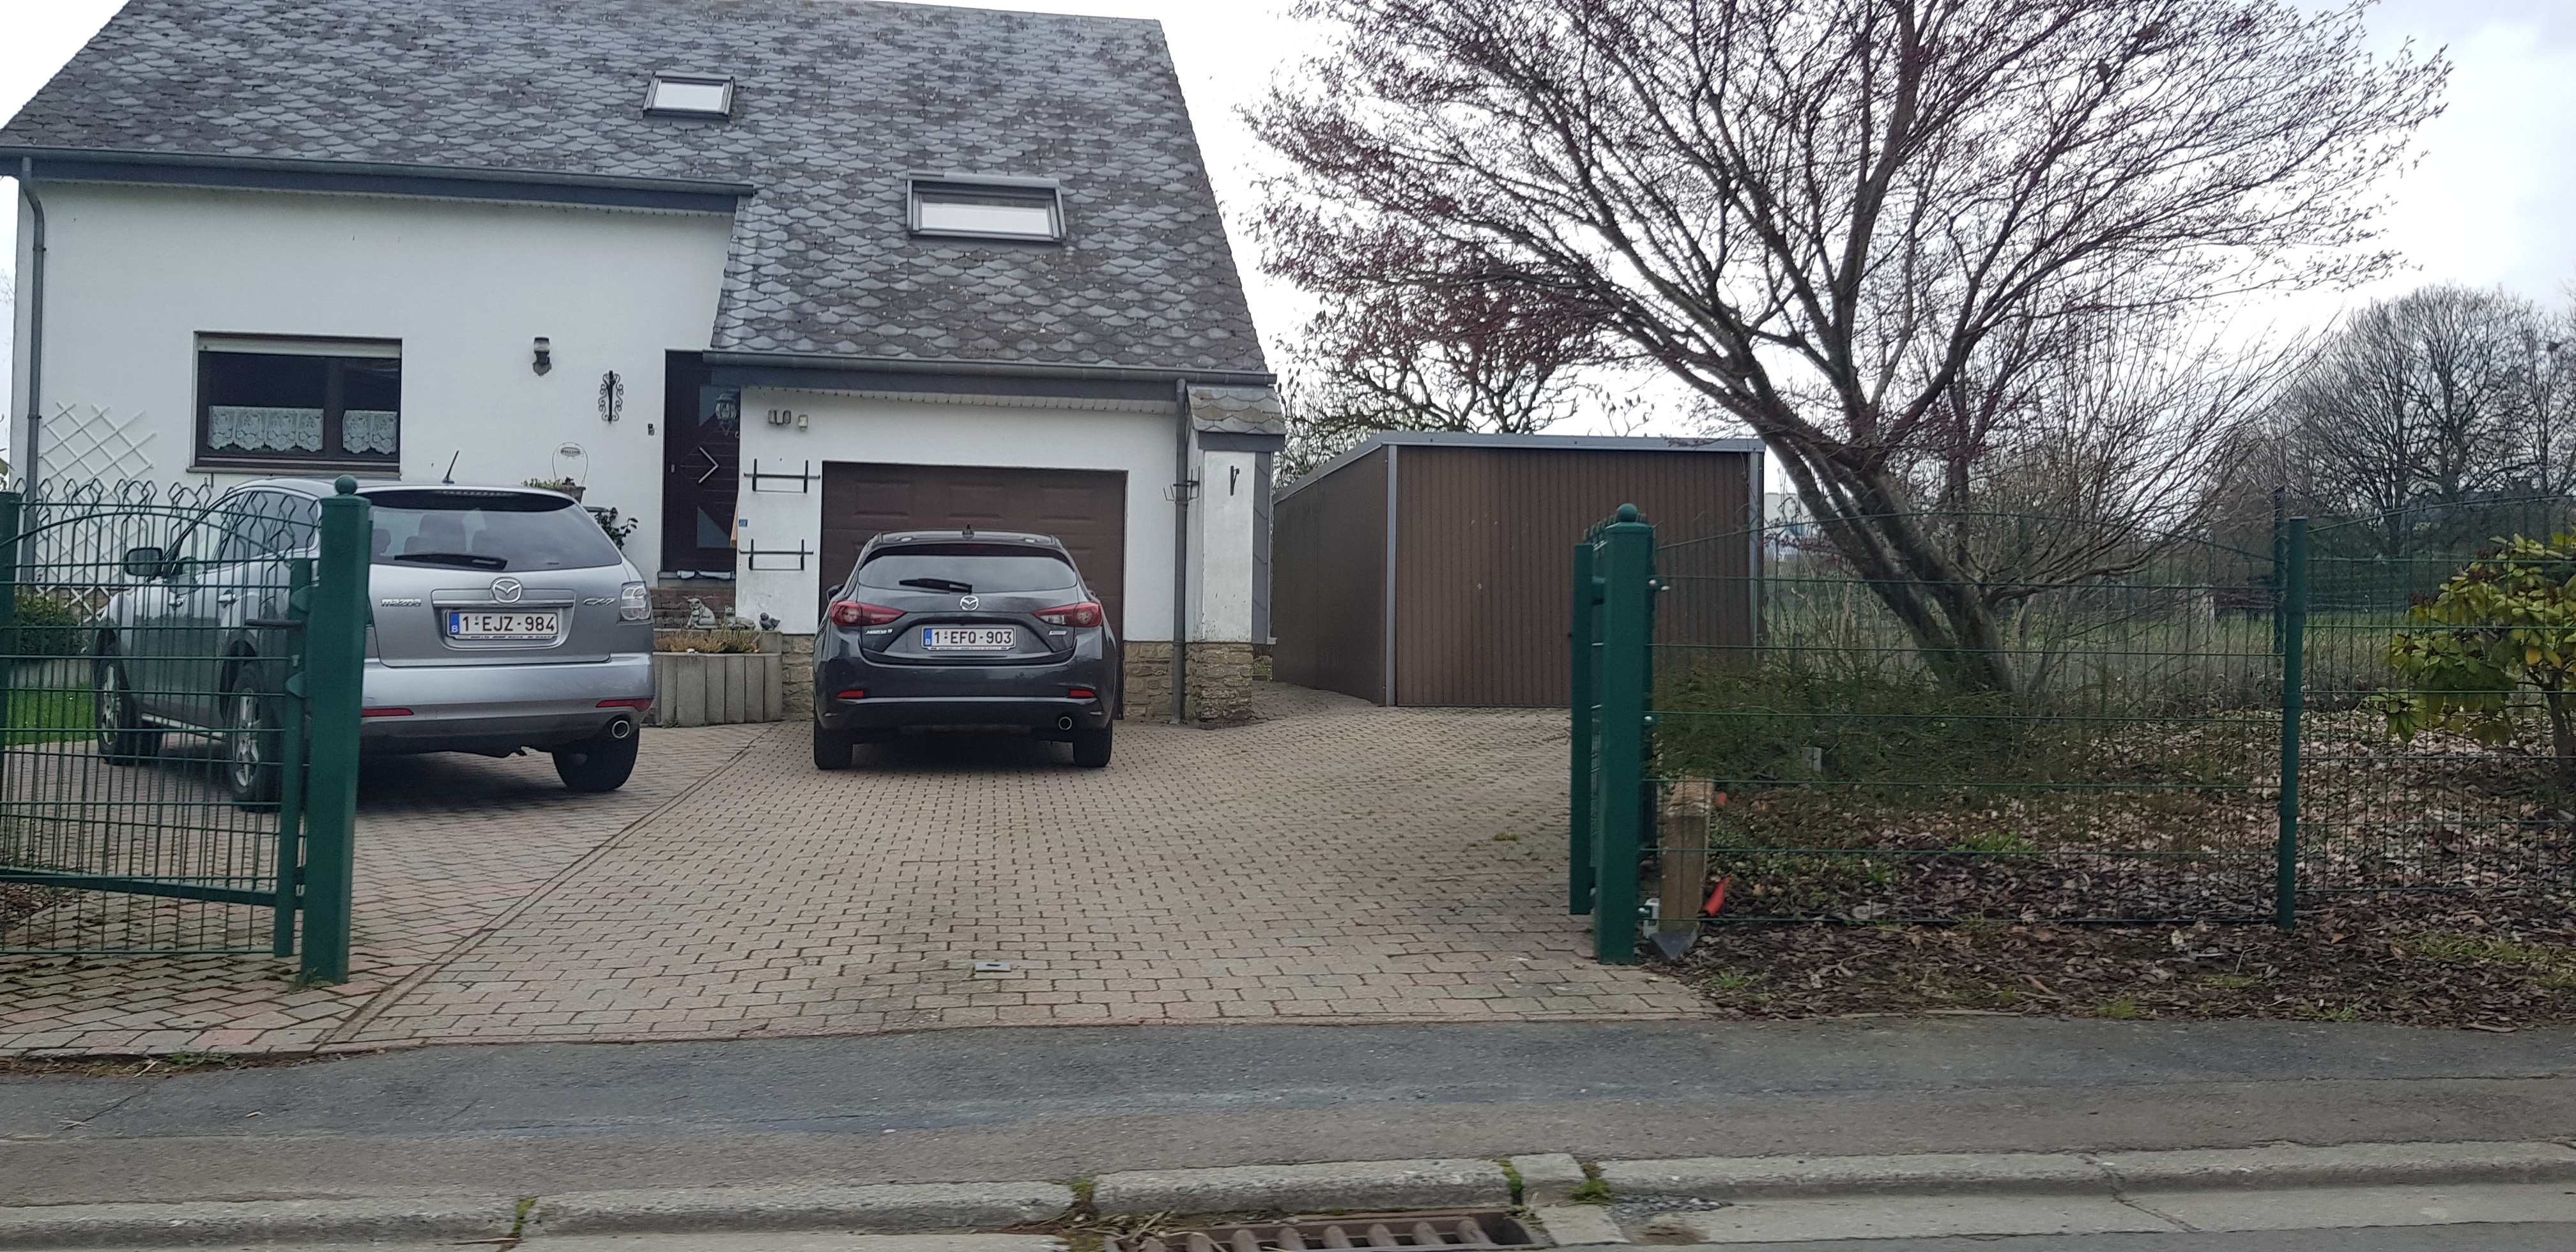licenceplate: (447, 608, 558, 636), (921, 626, 1016, 647)
